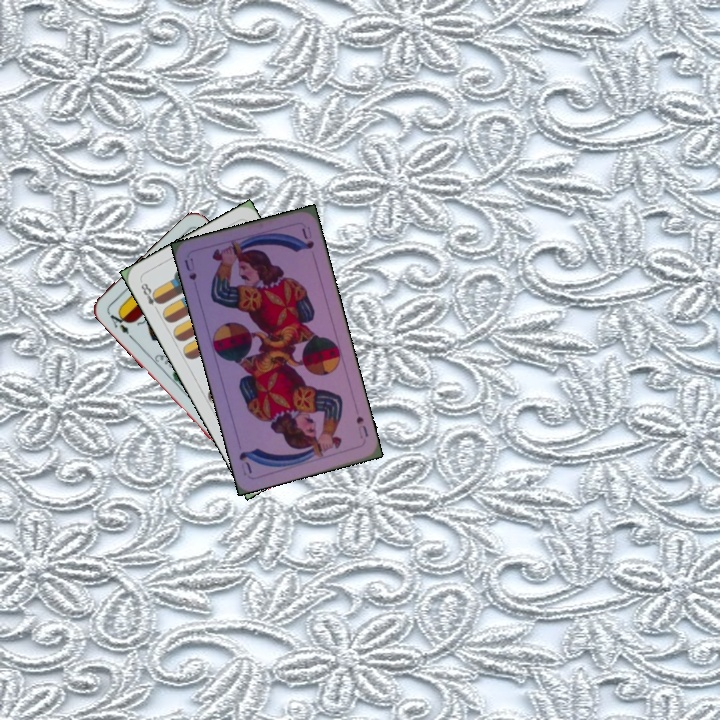E8: (137, 279, 164, 315)
EA: (103, 306, 135, 341)
SU: (180, 254, 199, 283), (352, 412, 371, 441)
